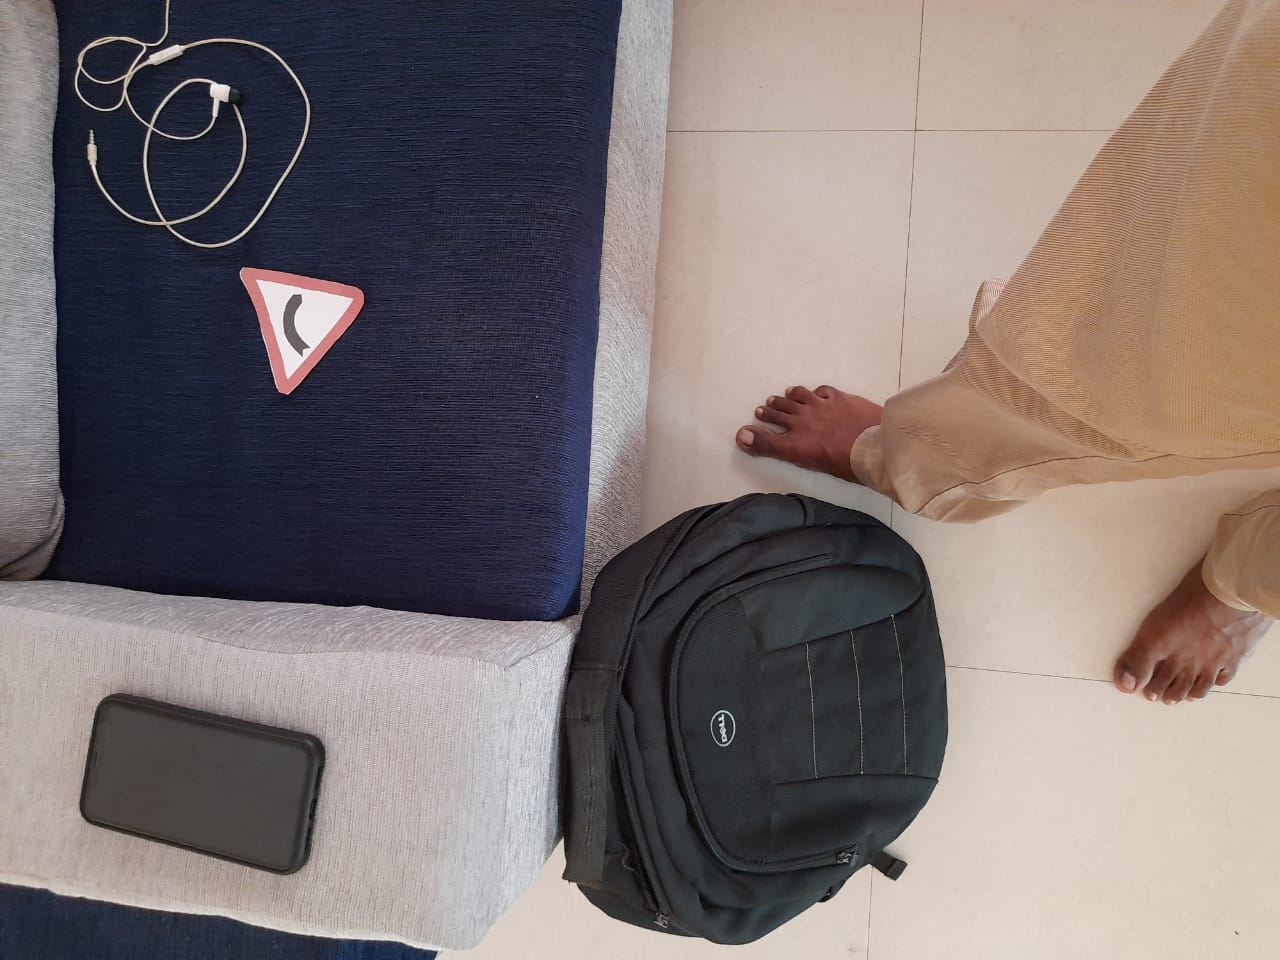RIGHT CURVE: (224, 237, 396, 397)
